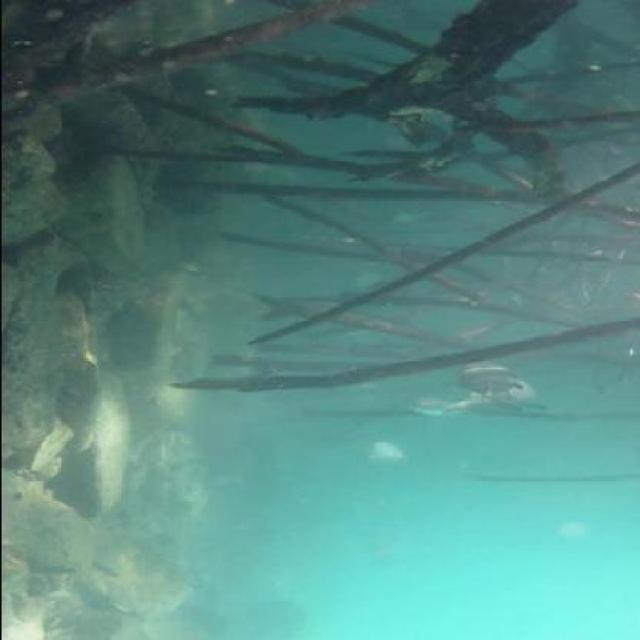Caranx_sexfasciatus_juvenile: (452, 359, 536, 426), (462, 374, 547, 426), (396, 394, 467, 428)
